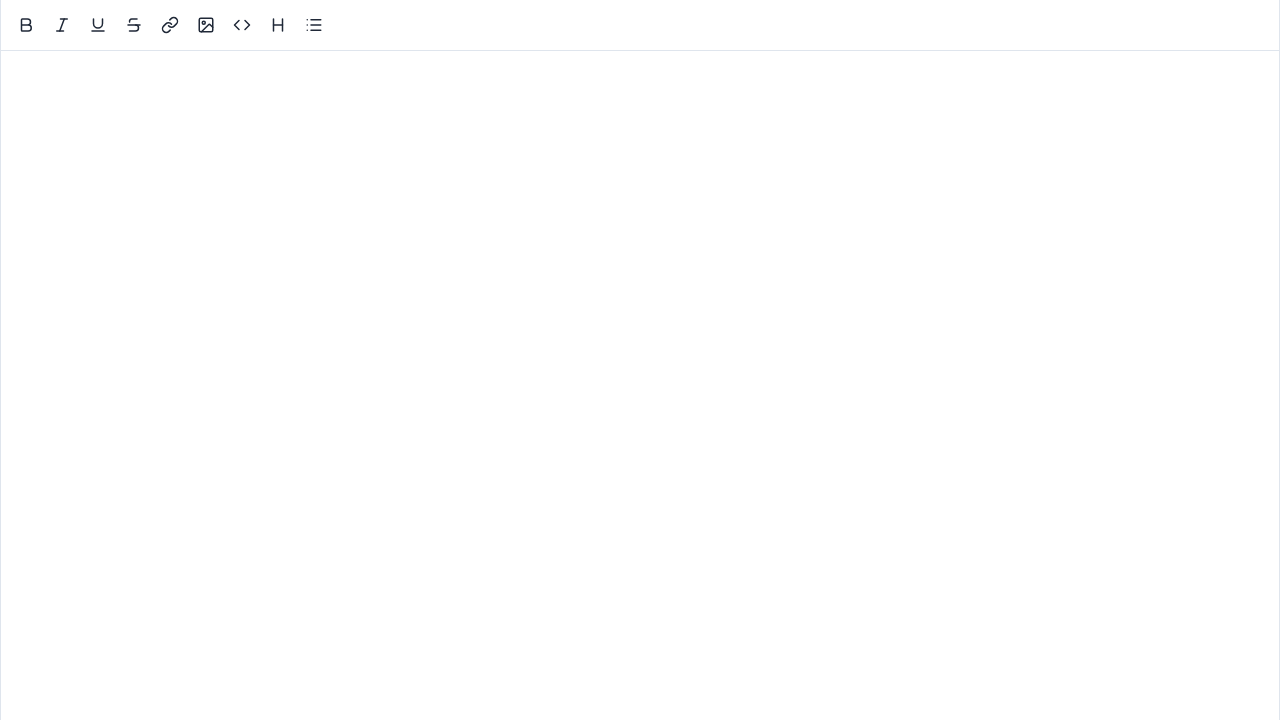
Test: EditorToolbar › il menu Titolo offre i quattro livelli
Click the button named "Titolo" at (278, 25), box [262, 9, 294, 40]
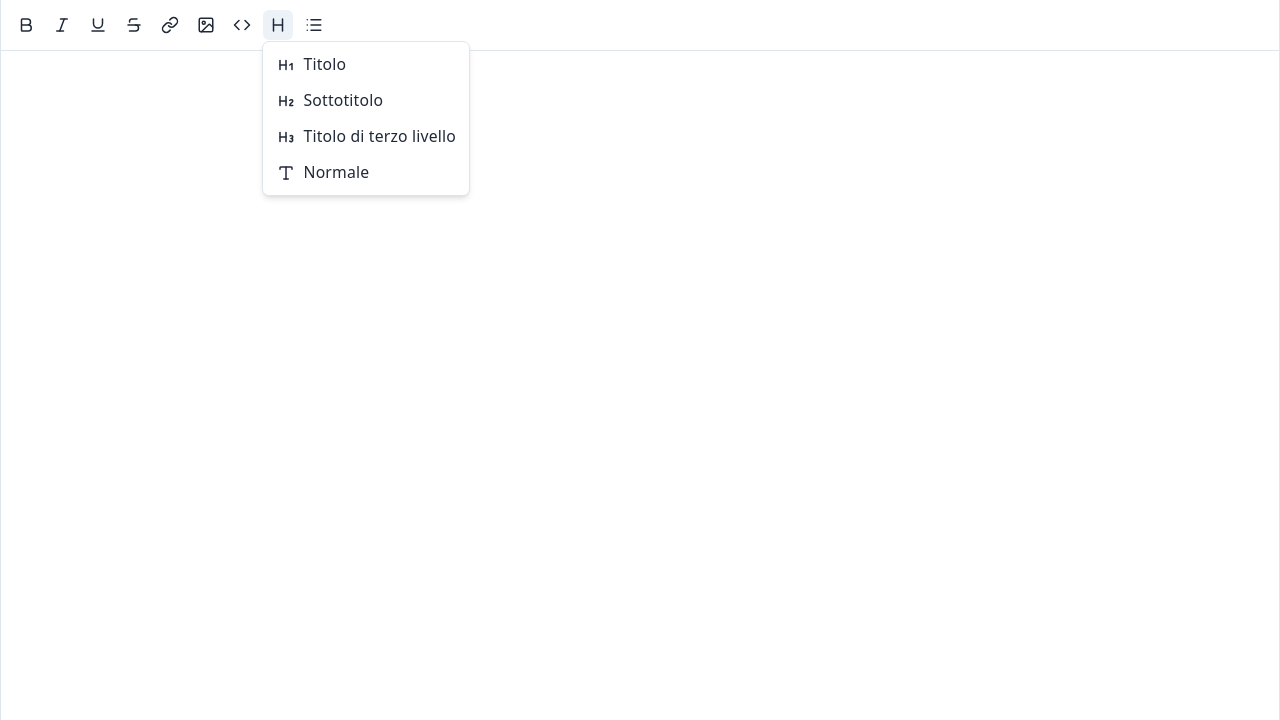
Expected: the menu item "Titolo" is shown, [276, 53, 346, 75]
Expected: the menu item "Sottotitolo" is shown, [276, 89, 383, 111]
Expected: the menu item "Titolo di terzo livello" is shown, [268, 118, 465, 154]
